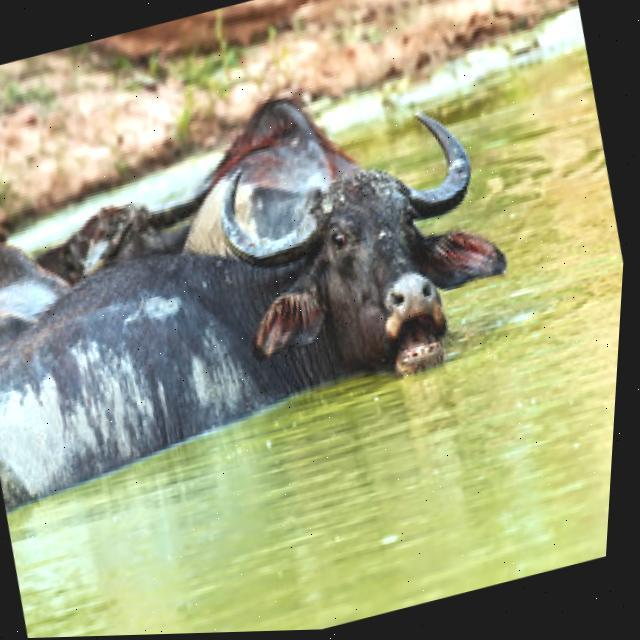Buffalo: (0, 38, 550, 521)
